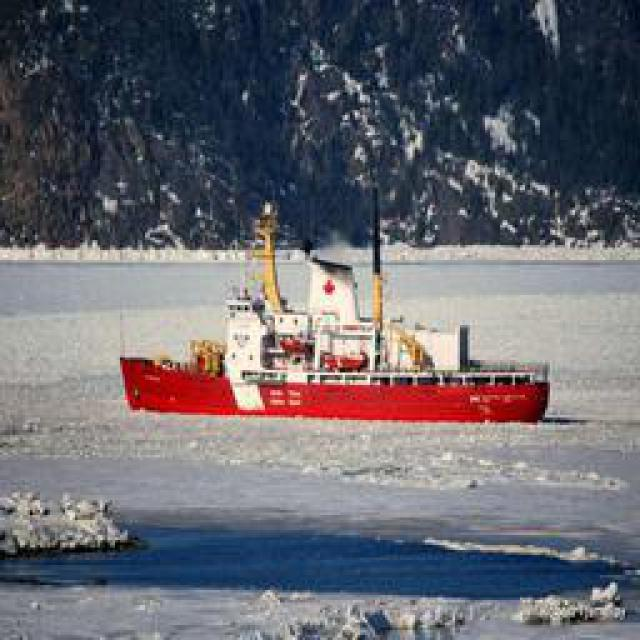Ship: (126, 289, 546, 432)
